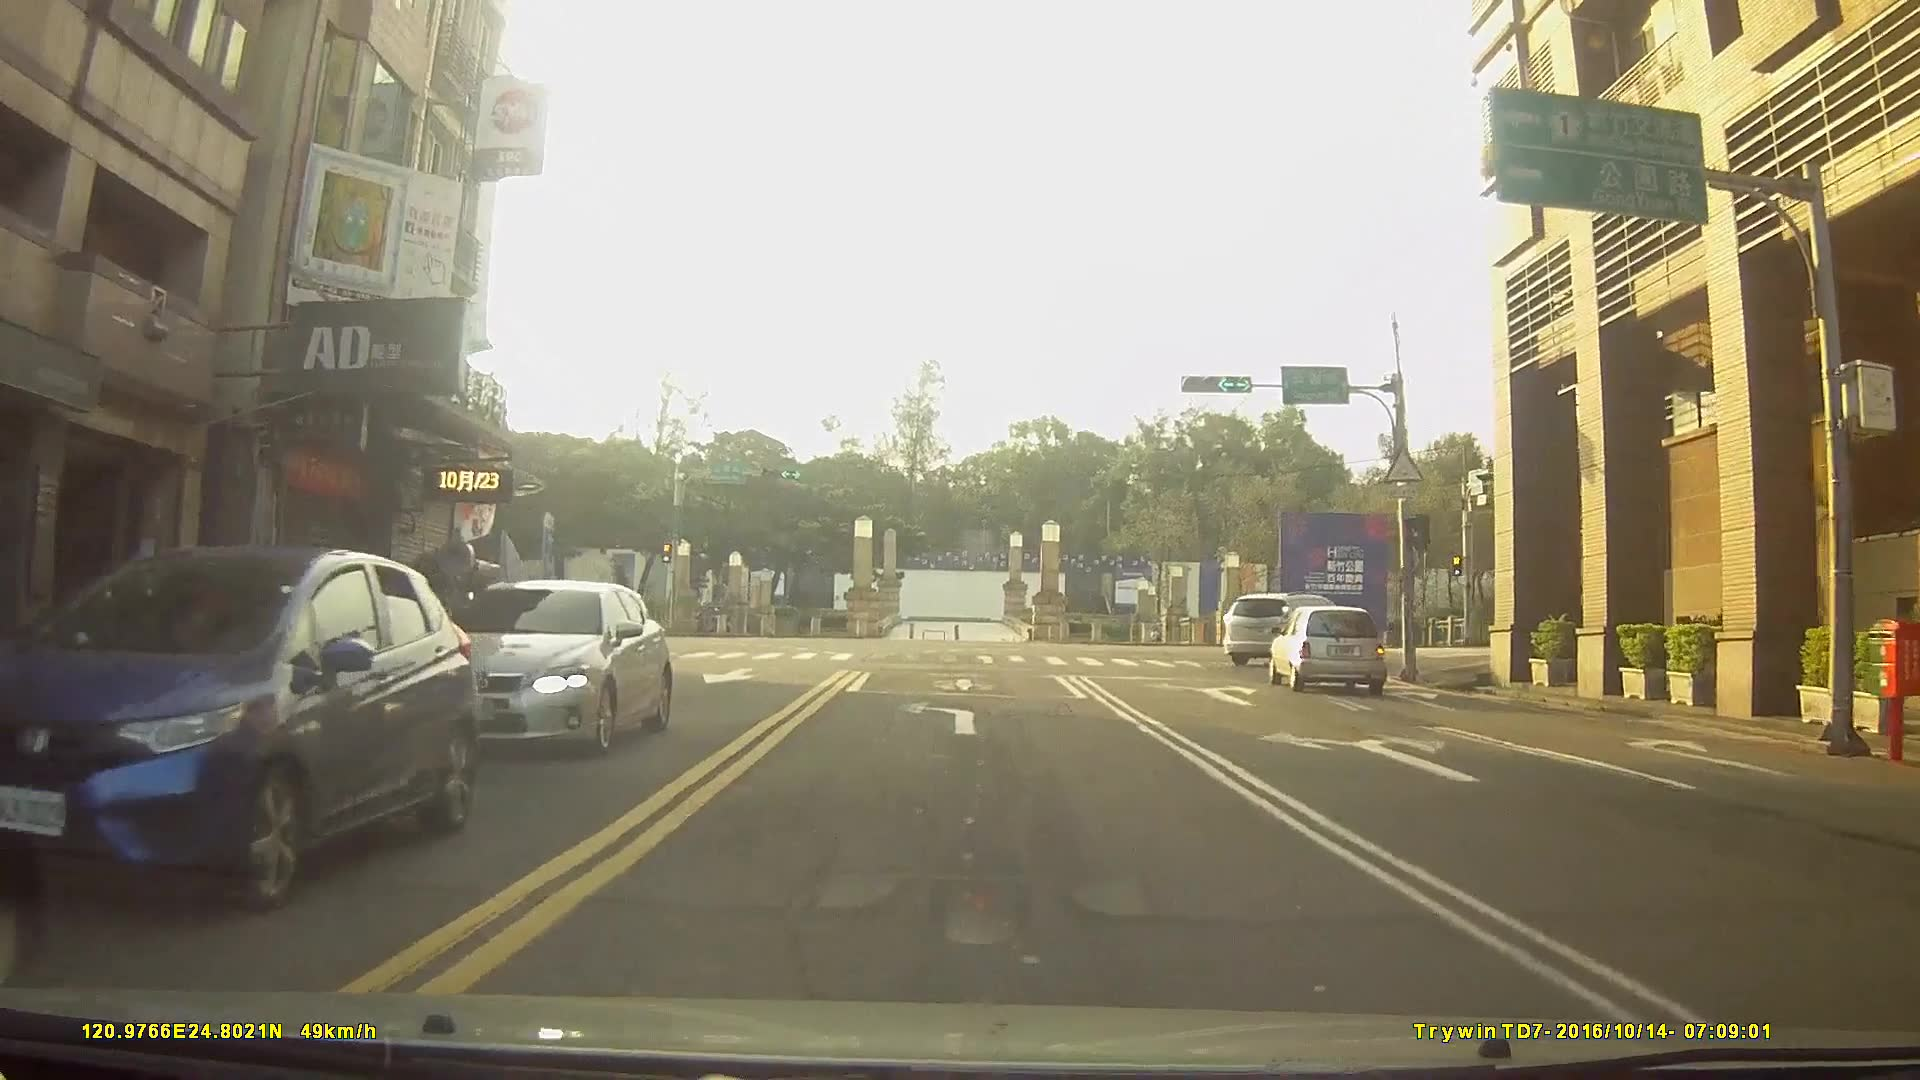vehicle: (0, 539, 481, 907), (434, 576, 671, 754), (1220, 589, 1357, 667), (1269, 604, 1387, 692)
